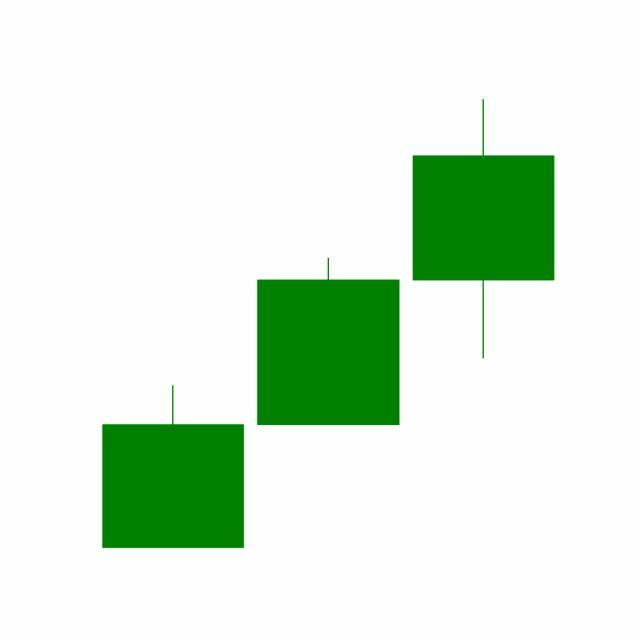Marubozu: (250, 256, 407, 427)
